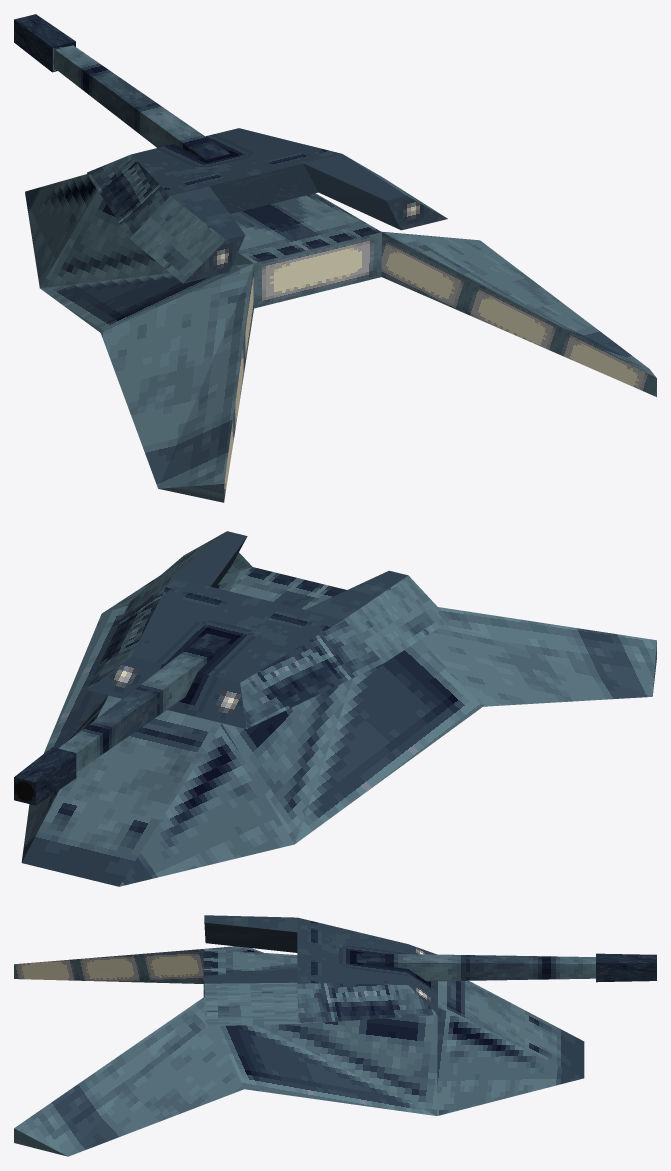
Rendered from Chameleon_original.glb.
3 renders of one model, top to bottom at view 1: azimuth 30°, elevation 25°; view 2: azimuth 150°, elevation 25°; view 3: azimuth 270°, elevation 25°, orthographic. The views are drawn at different scales.
Parts seen in each view (by area): view 1: Body, Turret, Barrel; view 2: Body, Turret, Barrel; view 3: Body, Turret, Barrel.
Part boxes in pixels (left/top/right/bottom): Body: left=25, top=174, right=656, bottom=502; Turret: left=87, top=128, right=447, bottom=283; Barrel: left=14, top=14, right=229, bottom=159; Body: left=21, top=552, right=656, bottom=886; Turret: left=87, top=531, right=449, bottom=728; Barrel: left=14, top=633, right=231, bottom=805; Body: left=14, top=946, right=584, bottom=1156; Turret: left=204, top=915, right=437, bottom=1026; Barrel: left=356, top=953, right=656, bottom=982.
Size of the model in its own units: 1.19 by 0.3444 by 1.73.
Materials: 19 (19 with a texture image).
